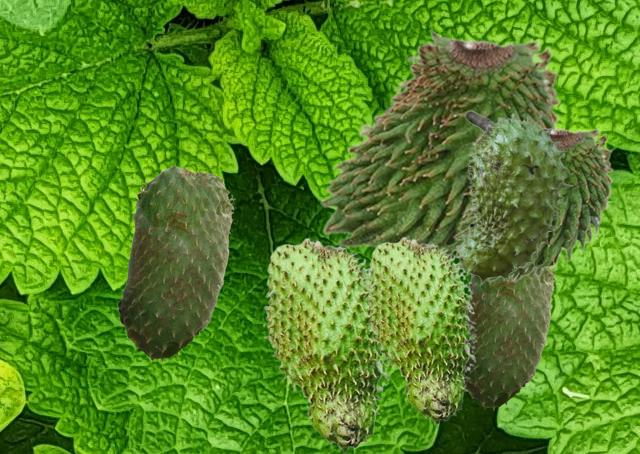guyabano: (318, 27, 561, 265), (262, 237, 390, 452), (452, 123, 613, 281), (116, 164, 234, 361), (365, 236, 477, 424), (453, 110, 573, 285), (465, 267, 555, 409)
